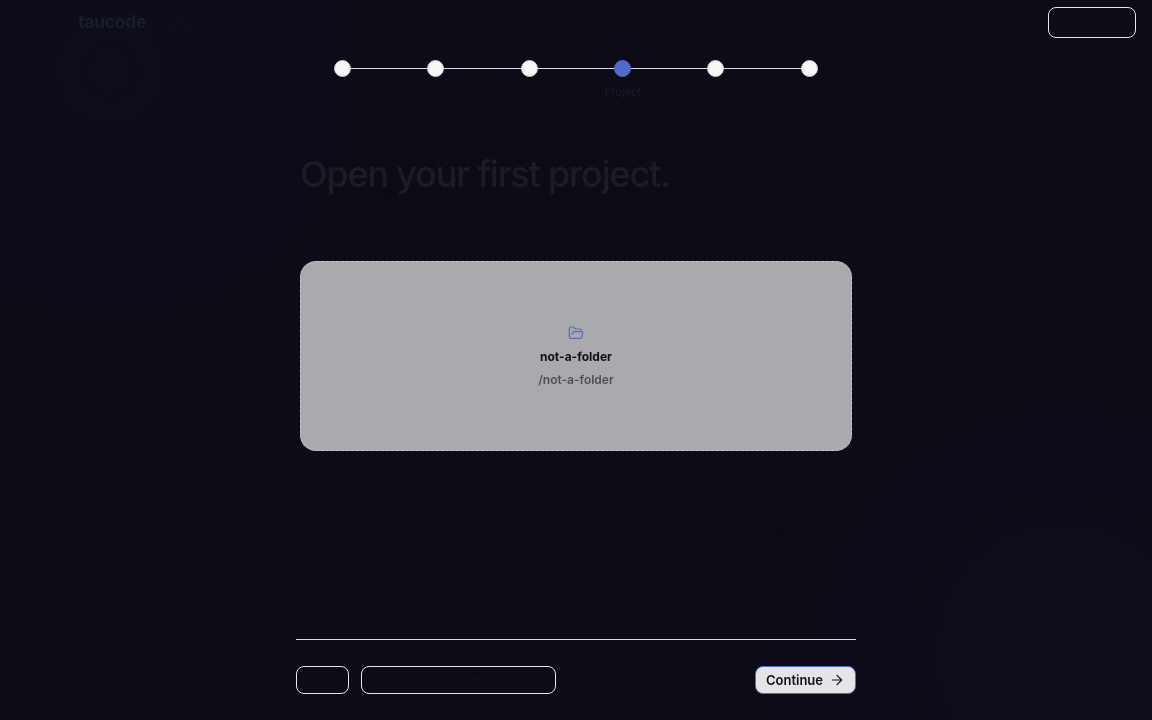
Test case: accepts a native drop, rejects files, and hides unavailable codegraph
The image size is (1152, 720).
Click the button "Continue".
click(806, 680)  # box [755,666,856,694]
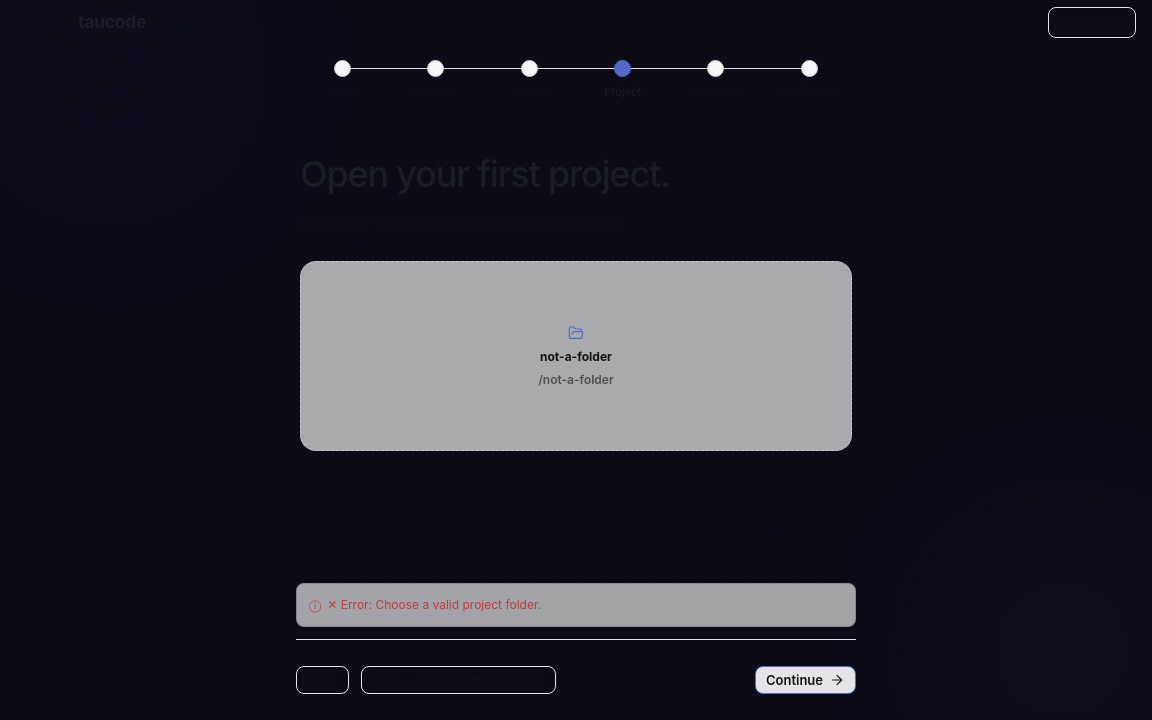
Expected: the message shows "valid project folder", [341,597,541,612]
